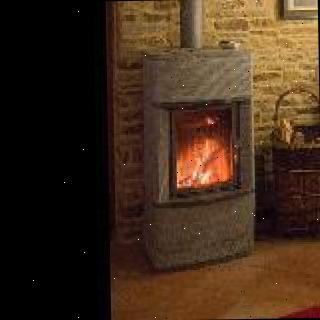fire: (165, 103, 234, 188)
